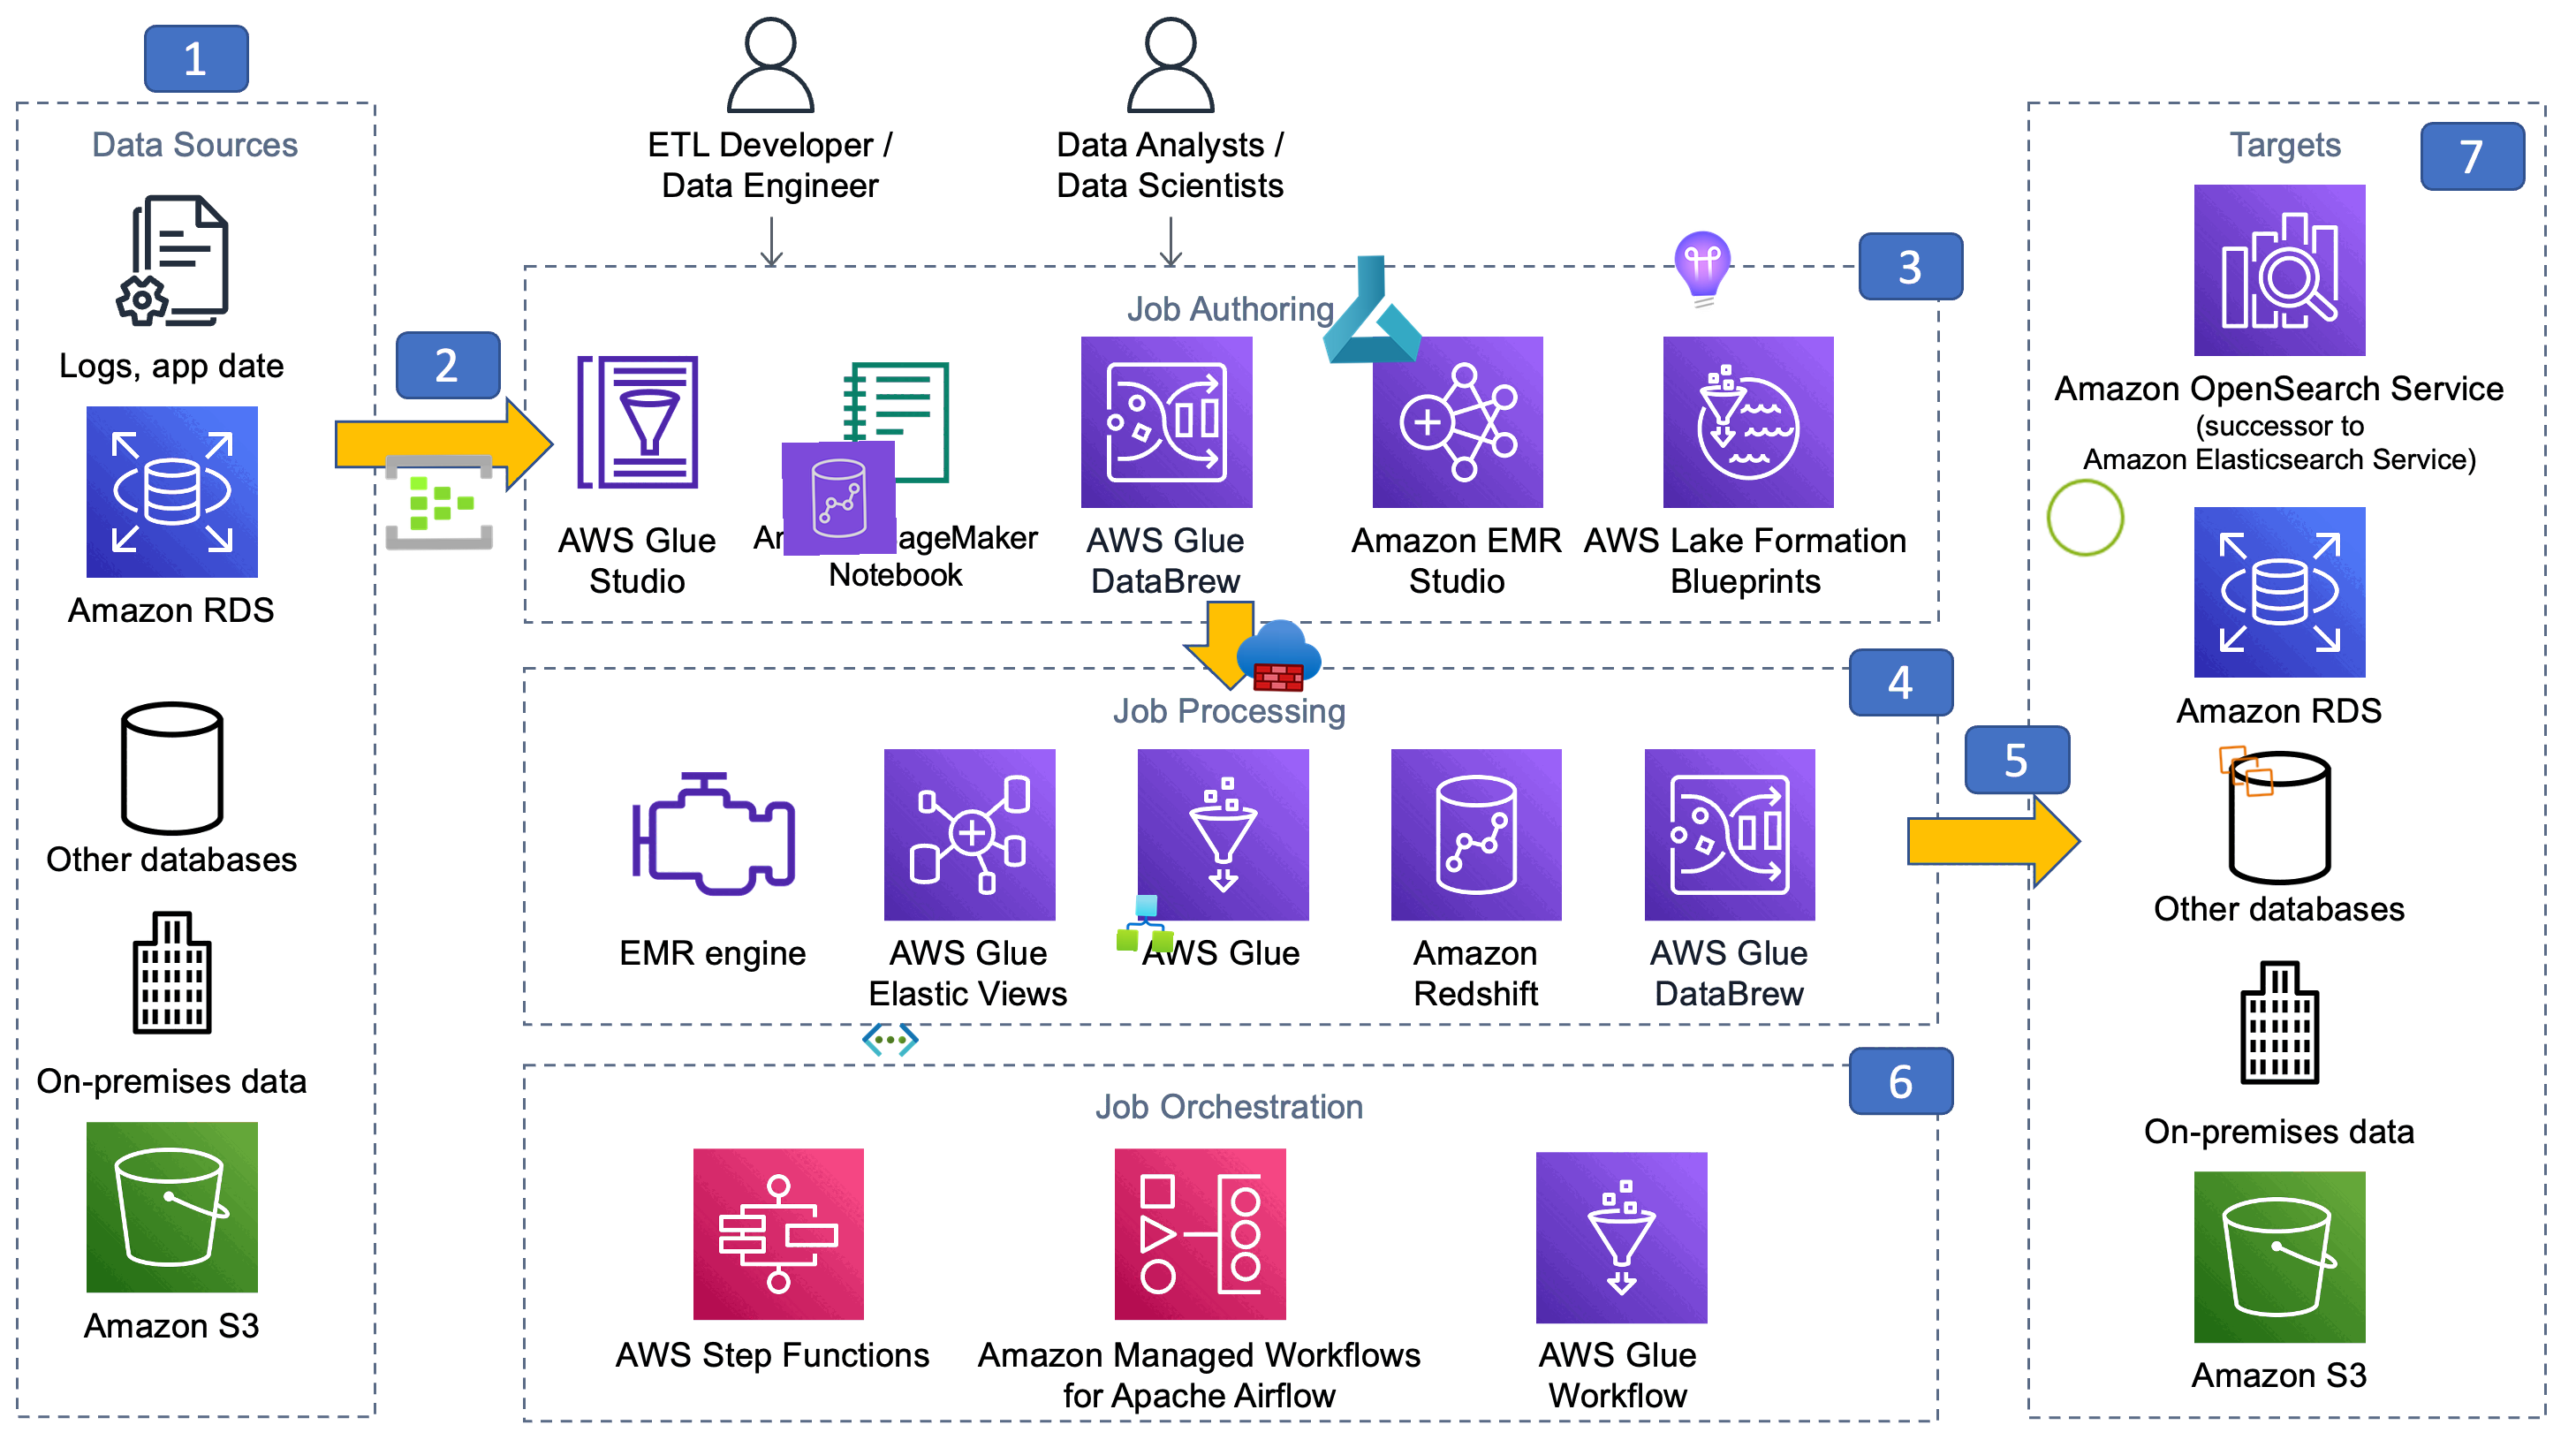aws_amazon_redshift: (780, 440, 897, 557)
aws_ec2_instances: (2215, 739, 2277, 801)
aws_simple_storage_service_object: (2042, 474, 2130, 563)
azure_application_insights: (1660, 226, 1748, 315)
azure_event_hubs: (382, 444, 497, 559)
azure_firewalls: (1235, 612, 1323, 701)
azure_logic_apps: (1116, 893, 1177, 954)
azure_machine_learning: (1313, 251, 1430, 368)
azure_virtual_networks: (862, 1010, 920, 1069)
